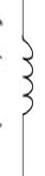inductor: (16, 31, 36, 123)
